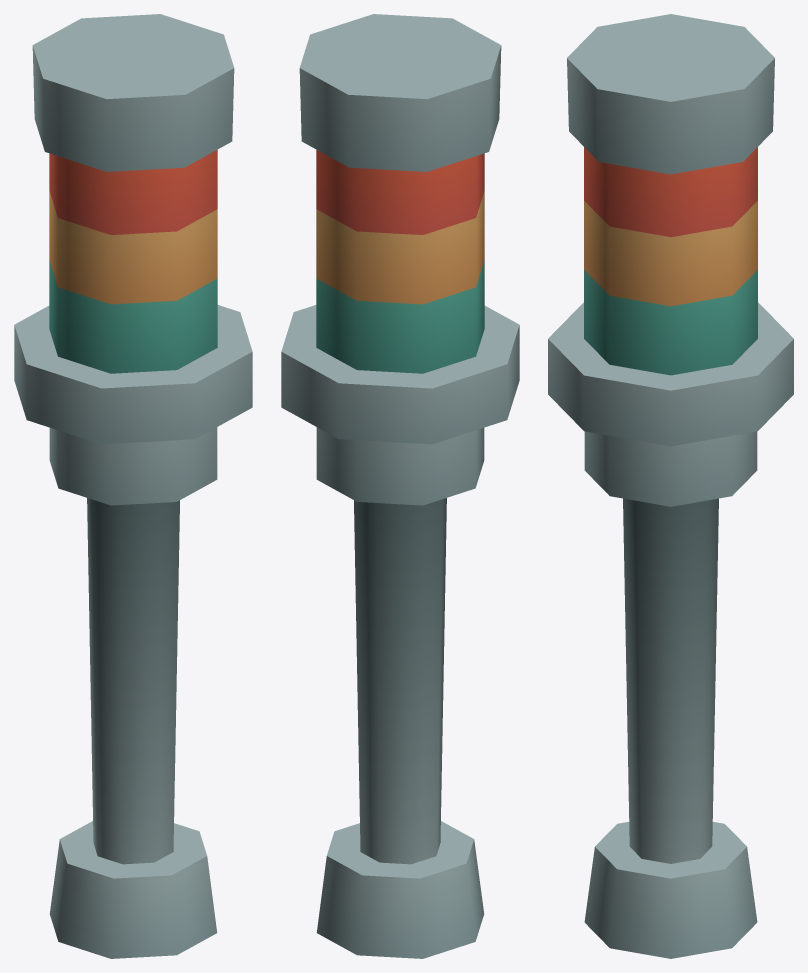
The model's file is warning-traffic.glb.
The picture shows the model from 3 angles, left to right: view 1: azimuth 30°, elevation 25°; view 2: azimuth 150°, elevation 25°; view 3: azimuth 270°, elevation 25°; orthographic projection.
Parts seen in each view (by area): view 1: warning-traffic; view 2: warning-traffic; view 3: warning-traffic.
Boxes of the visible parts, <box> form: warning-traffic: <box>14,14,252,958</box>; warning-traffic: <box>281,14,519,958</box>; warning-traffic: <box>548,14,793,958</box>.
Size of the model in its own units: 0.4 by 1.55 by 0.4.
Materials: 1 (1 with a texture image).
